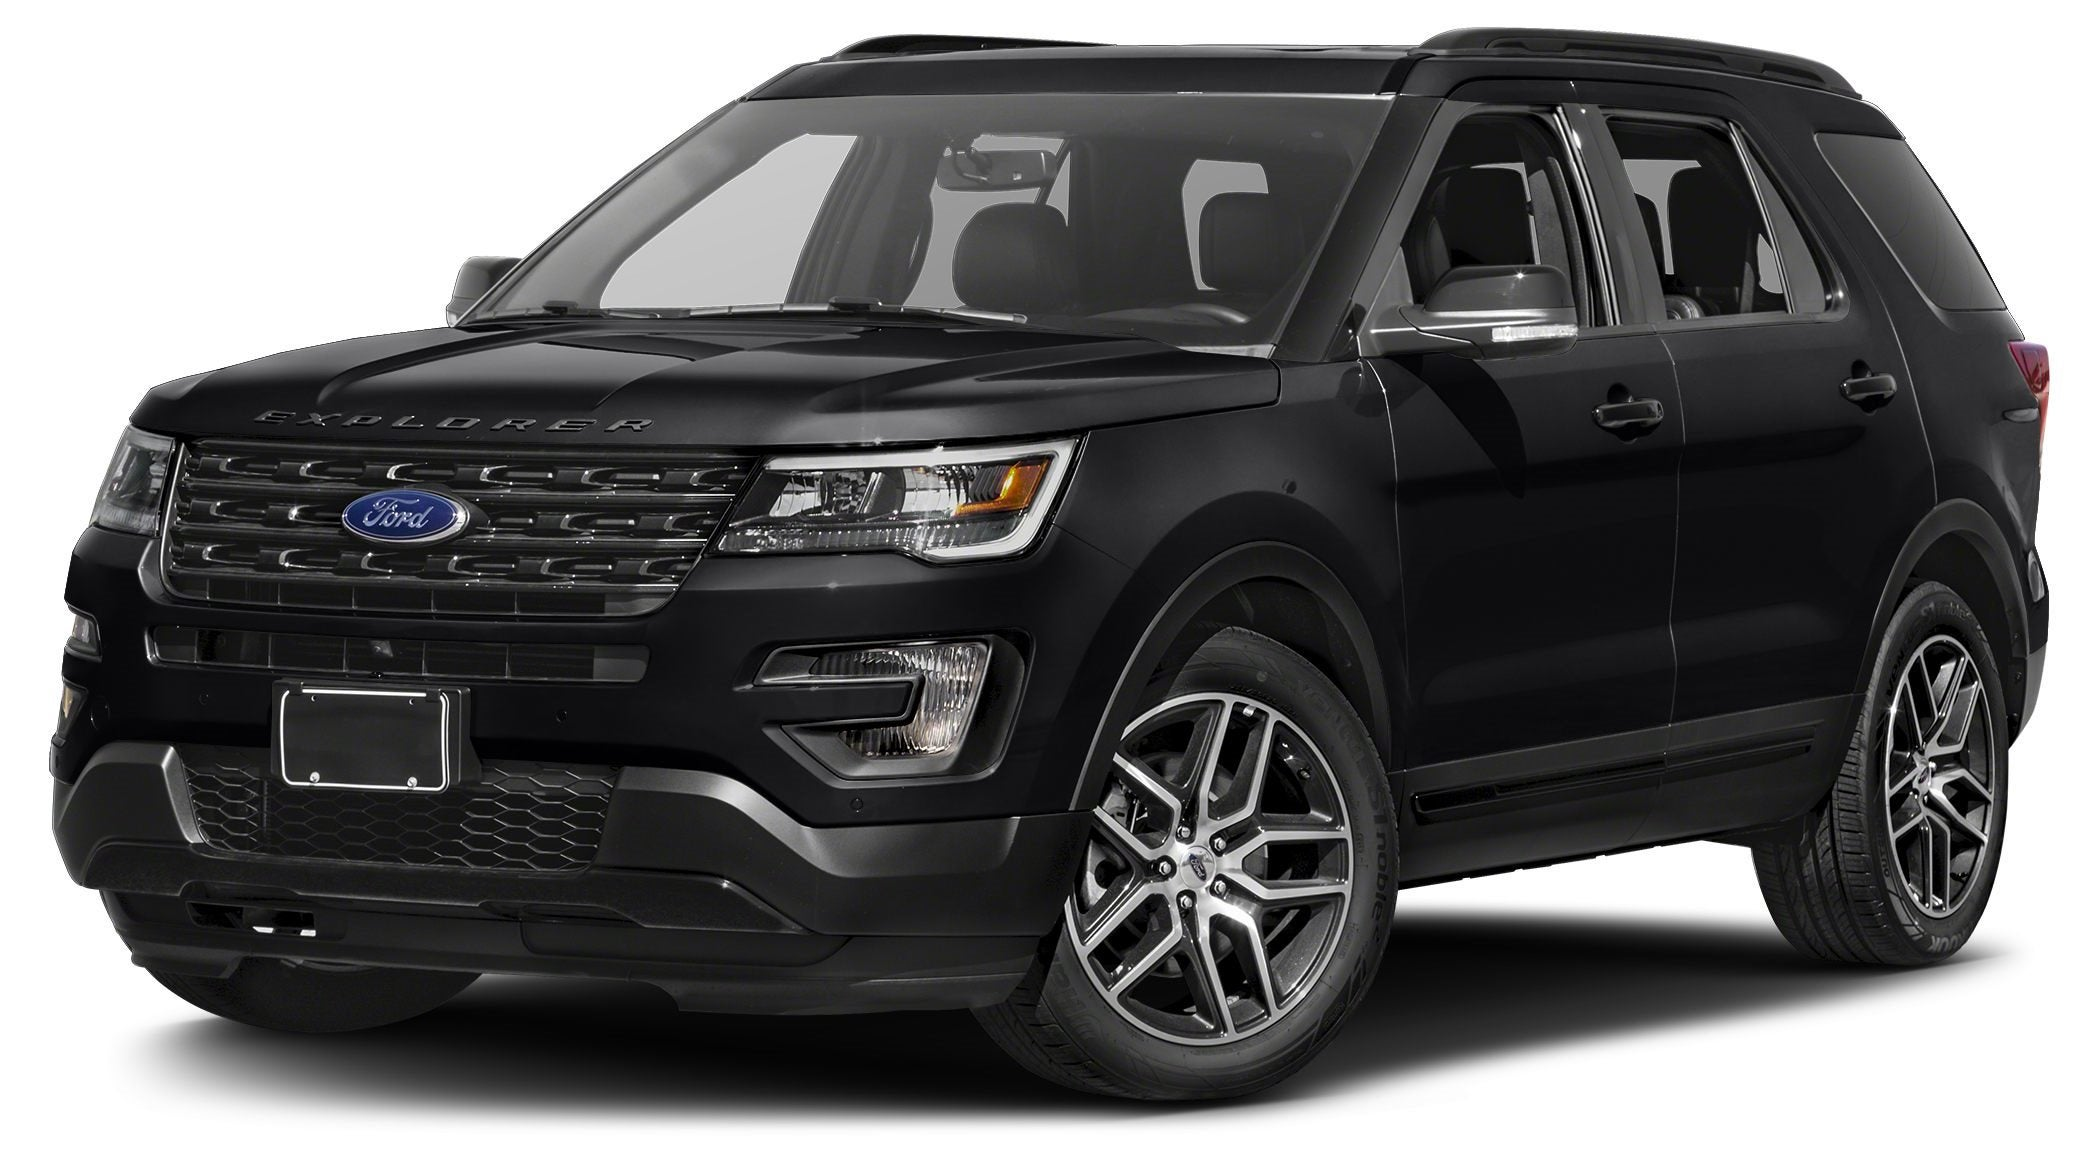Ford Explorer: (50, 44, 2053, 1111)
